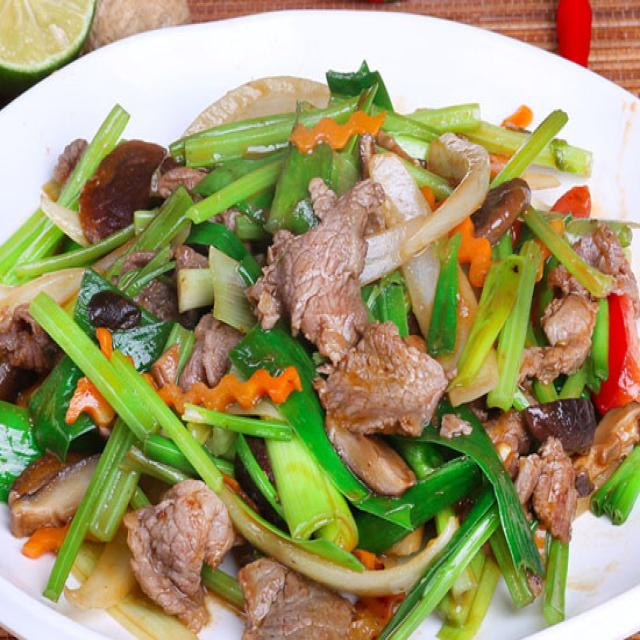bo xao: (0, 63, 639, 639)
